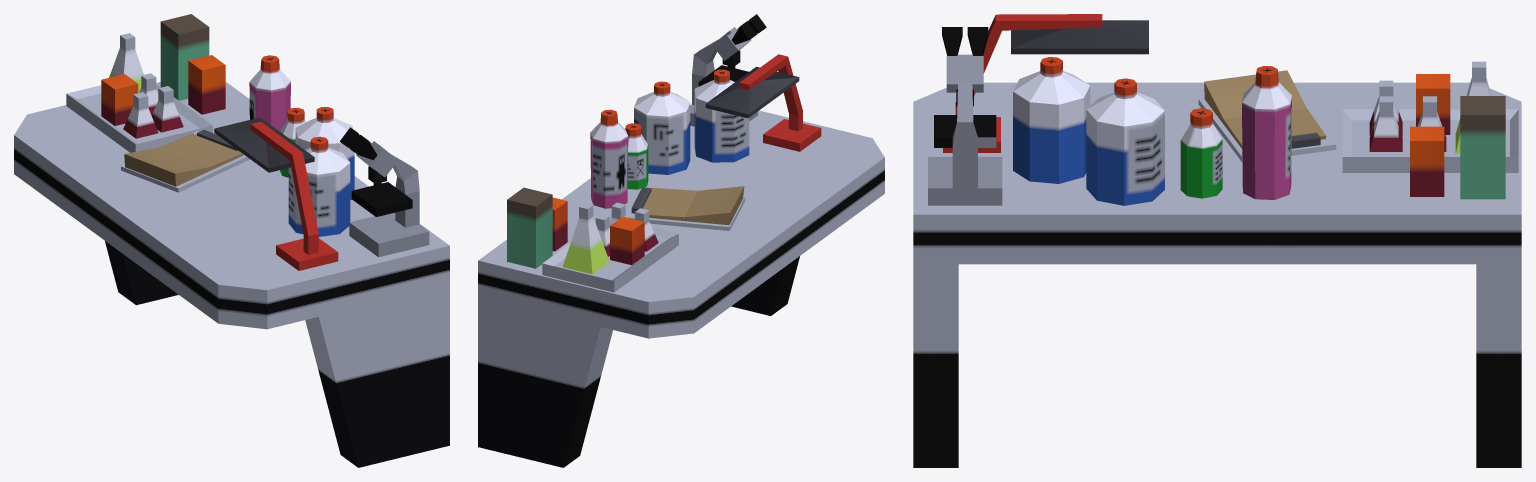
Rendered from TableScience1.fbx.
The picture shows the model from 3 angles, left to right: view 1: azimuth 30°, elevation 25°; view 2: azimuth 150°, elevation 25°; view 3: azimuth 270°, elevation 25°; orthographic projection. The views are drawn at different scales.
Parts seen in each view (by area): view 1: Куб.157; view 2: Куб.157; view 3: Куб.157.
Part boxes in pixels (left/top/right/bottom): Куб.157: left=14, top=14, right=449, bottom=467; Куб.157: left=478, top=14, right=884, bottom=467; Куб.157: left=913, top=14, right=1521, bottom=467.
Bounding box in the file's own units: 103 × 144 × 200.
